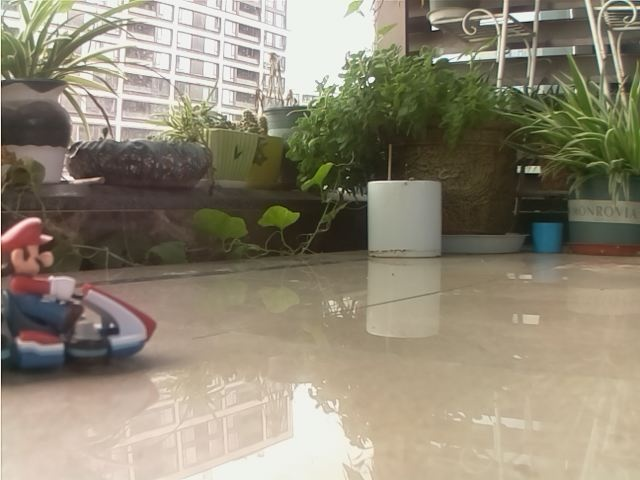mario: (1, 214, 161, 378)
